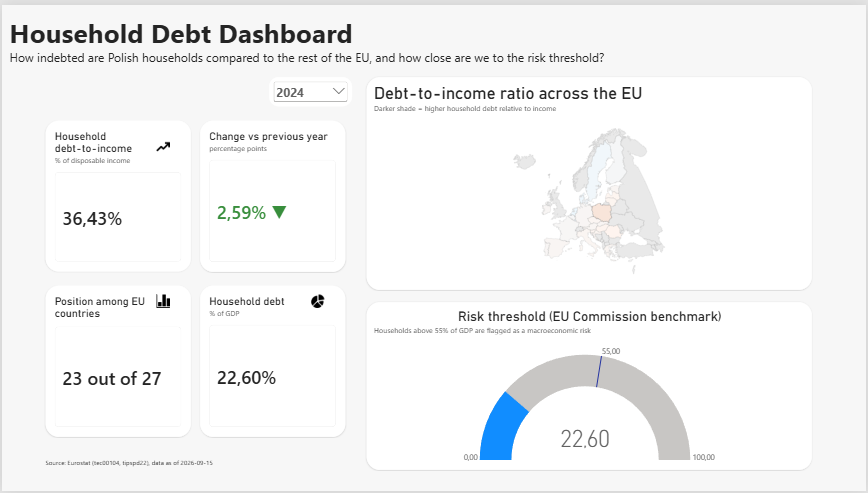

Layout of this report page (visuals, bound fields, positions):
{"tool":"powerbi","page":{"name":"Overview","canvas":[1920,1080],"ordinal":0},"visuals":[{"type":"textbox","box":[17.5,20,1335,117.5],"z":0},{"type":"cardVisual","title":"Change vs previous year","fields":{"Data":["tec00104_debt_to_income.YoY_Change_Display"]},"box":[440,256,323,336.7],"z":1000},{"type":"cardVisual","title":"Position among EU countries","fields":{"Data":["tec00104_debt_to_income.Rank_PL"]},"box":[95,623.3,323.3,336.7],"z":2000},{"type":"shapeMap","title":"Debt-to-income ratio across the EU","fields":{"Category":["tec00104_debt_to_income.country"],"Value":["tec00104_debt_to_income.CurrentValue_PL"]},"box":[810,160,990,473.3],"z":3000},{"type":"slicer","title":"Select year:","fields":{"Values":["tec00104_debt_to_income.year"]},"box":[593.3,160,184.4,65.6],"z":4000},{"type":"cardVisual","title":"Household debt","fields":{"Data":["tipspd22_debt_to_gdp.Debt_to_GDP_PL"]},"box":[440,623.3,323,336.7],"z":5000},{"type":"gauge","title":"Risk threshold (EU Commission benchmark)","fields":{"Y":["tipspd22_debt_to_gdp.Debt_to_GDP"]},"box":[810,660,990,373.3],"z":6000},{"type":"textbox","box":[95,1007.5,380,25],"z":7000},{"type":"cardVisual","title":"Household debt-to-income","fields":{"Data":["tec00104_debt_to_income.CurrentValue_PL"]},"box":[95,257.5,323,336],"z":8000},{"type":"image","box":[685.7,644.3,30,30],"z":9000},{"type":"image","box":[342,300,30,30],"z":10000},{"type":"image","box":[342.3,644.6,30,30],"z":11000}]}

Visuals, with their boxes in screenshot pixels (x1, y1, x2, y2), scaled from the page's 1920x1080 canvas onto the 868x493 screenshot:
textbox: l=8, t=9, r=611, b=63
"Change vs previous year" cardVisual: l=199, t=117, r=345, b=271
"Position among EU countries" cardVisual: l=43, t=285, r=189, b=438
"Debt-to-income ratio across the EU" shapeMap: l=366, t=73, r=814, b=289
"Select year:" slicer: l=268, t=73, r=352, b=103
"Household debt" cardVisual: l=199, t=285, r=345, b=438
"Risk threshold (EU Commission benchmark)" gauge: l=366, t=301, r=814, b=472
textbox: l=43, t=460, r=215, b=471
"Household debt-to-income" cardVisual: l=43, t=118, r=189, b=271
image: l=310, t=294, r=324, b=308
image: l=155, t=137, r=168, b=151
image: l=155, t=294, r=168, b=308
